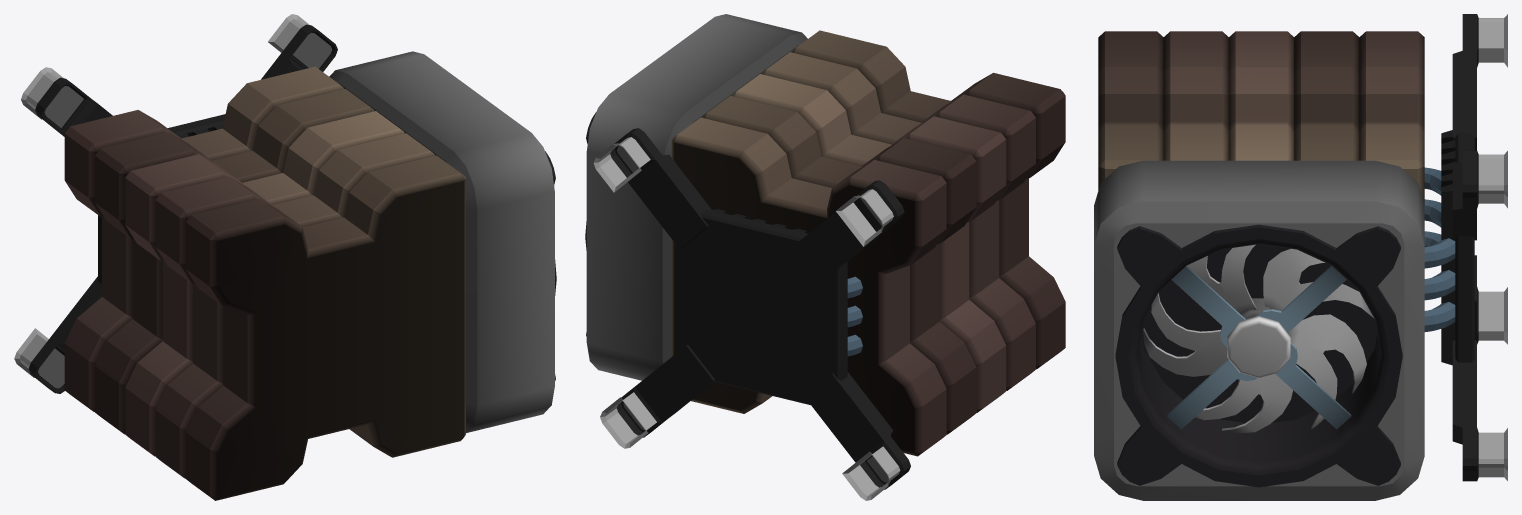
Rendered from Cooling_systems_lvl_05_V06.fbx.
3 renders of one model, left to right at view 1: azimuth 30°, elevation 25°; view 2: azimuth 150°, elevation 25°; view 3: azimuth 270°, elevation 25°, orthographic. The views are drawn at different scales.
Parts seen in each view (by area): view 1: Body_Cooling; view 2: Body_Cooling; view 3: Body_Cooling, Fan_Cooling.
Boxes of the visible parts, x1,y1,x2,y2 form: Body_Cooling: (14, 14, 556, 500); Body_Cooling: (585, 14, 1065, 500); Body_Cooling: (1094, 14, 1507, 500); Fan_Cooling: (1143, 244, 1374, 433).
Size of the model in its own units: 55.78 by 46.9 by 51.59.
